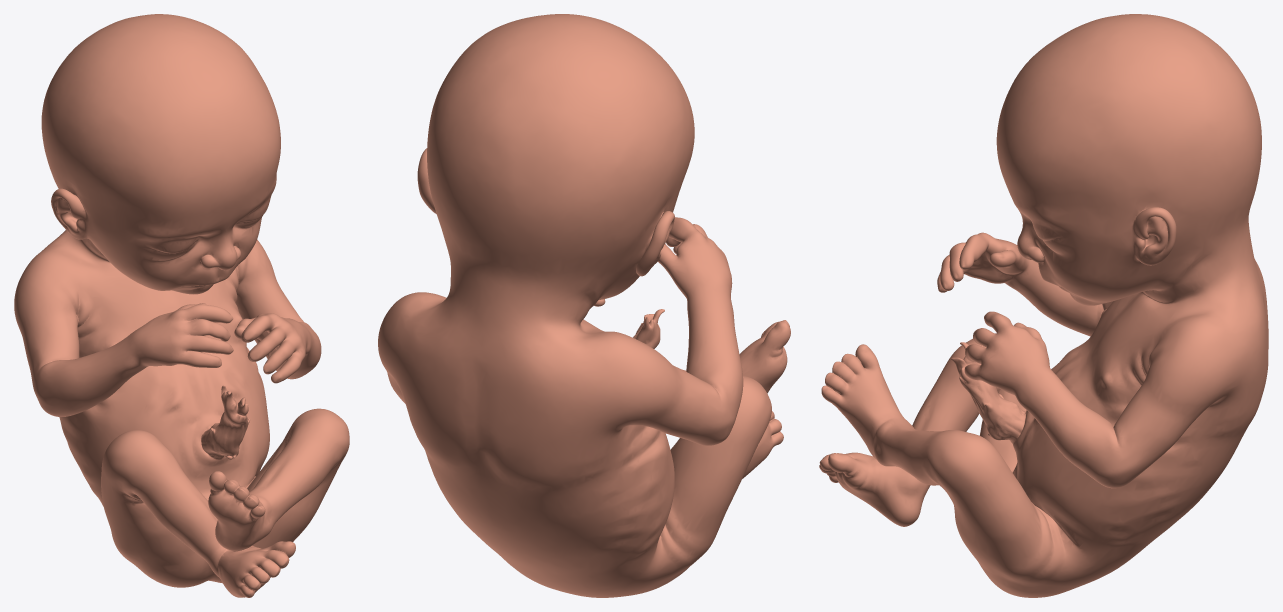
Rendered from semaine-25.glb.
3 renders of one model, left to right at view 1: azimuth 30°, elevation 25°; view 2: azimuth 150°, elevation 25°; view 3: azimuth 270°, elevation 25°, orthographic. The views are drawn at different scales.
Bounding box in the file's own units: 1.08 × 1.9 × 1.4.
